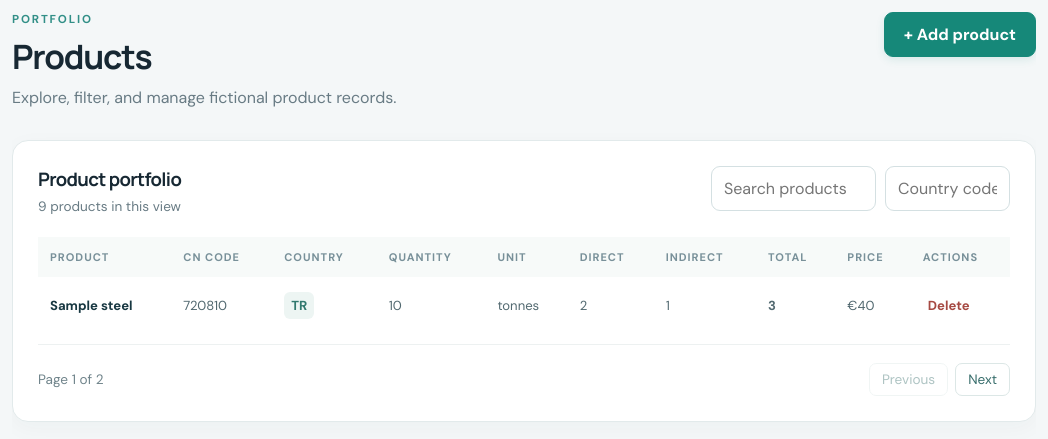
Test: products paginates to next page
Expected: the text "Page 1 of 2" is shown, [38,371,104,388]
Click the button "Next".
click(983, 379)  # box [955,363,1010,396]
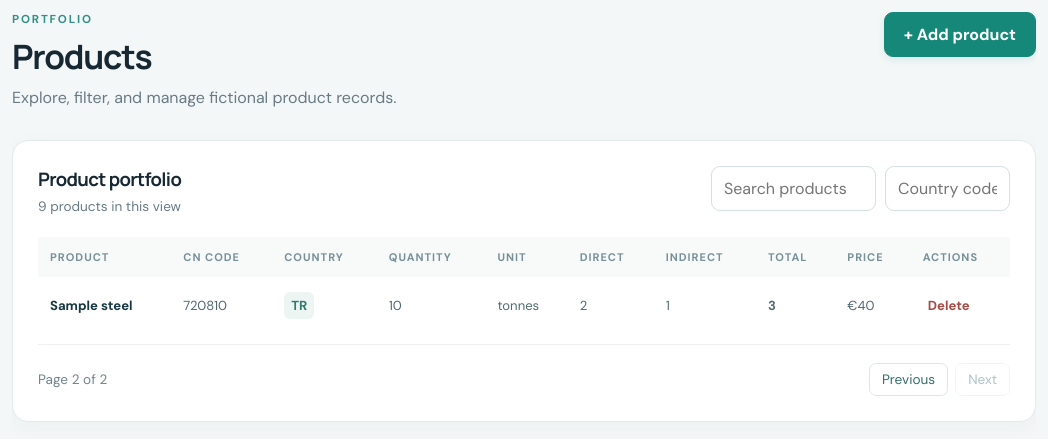
Result: the text "Page 2 of 2" is shown at [38,371,107,388]
